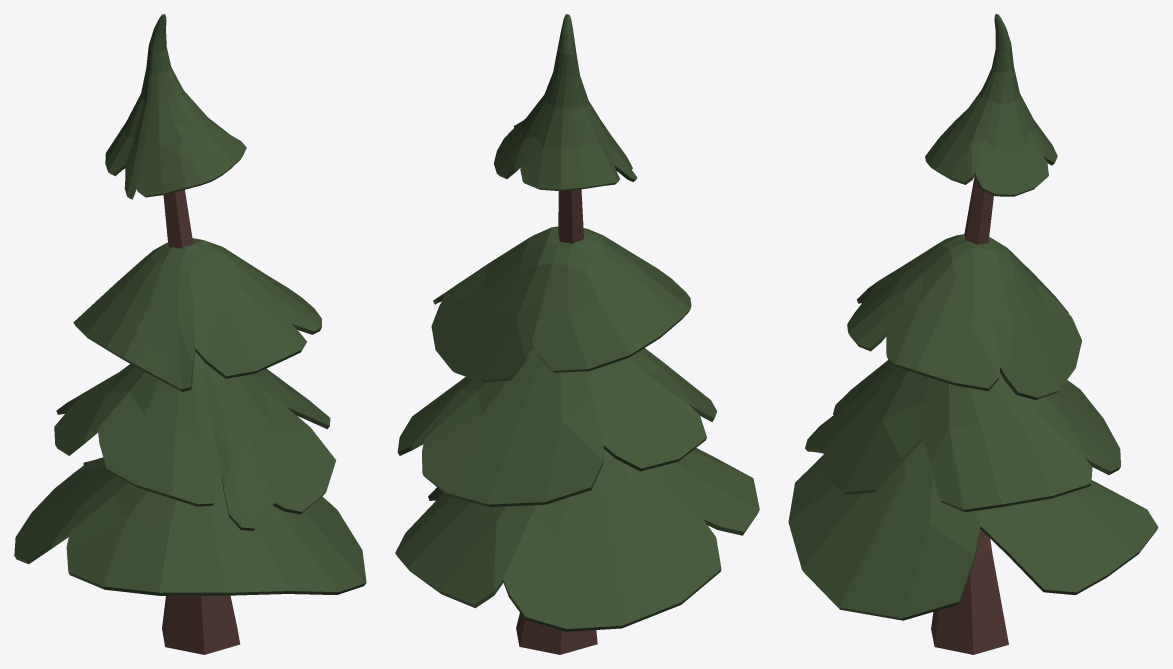
Rendered from PineTree_2.glb.
3 renders of one model, left to right at view 1: azimuth 30°, elevation 25°; view 2: azimuth 150°, elevation 25°; view 3: azimuth 270°, elevation 25°, orthographic. The views are drawn at different scales.
Parts seen in each view (by area): view 1: PineTree_2; view 2: PineTree_2; view 3: PineTree_2.
Boxes of the visible parts, x1,y1,x2,y2 form: PineTree_2: (14,14,366,654); PineTree_2: (395,14,759,654); PineTree_2: (788,14,1158,654).
Bounding box in the file's own units: 1.8 × 3.56 × 1.96.
